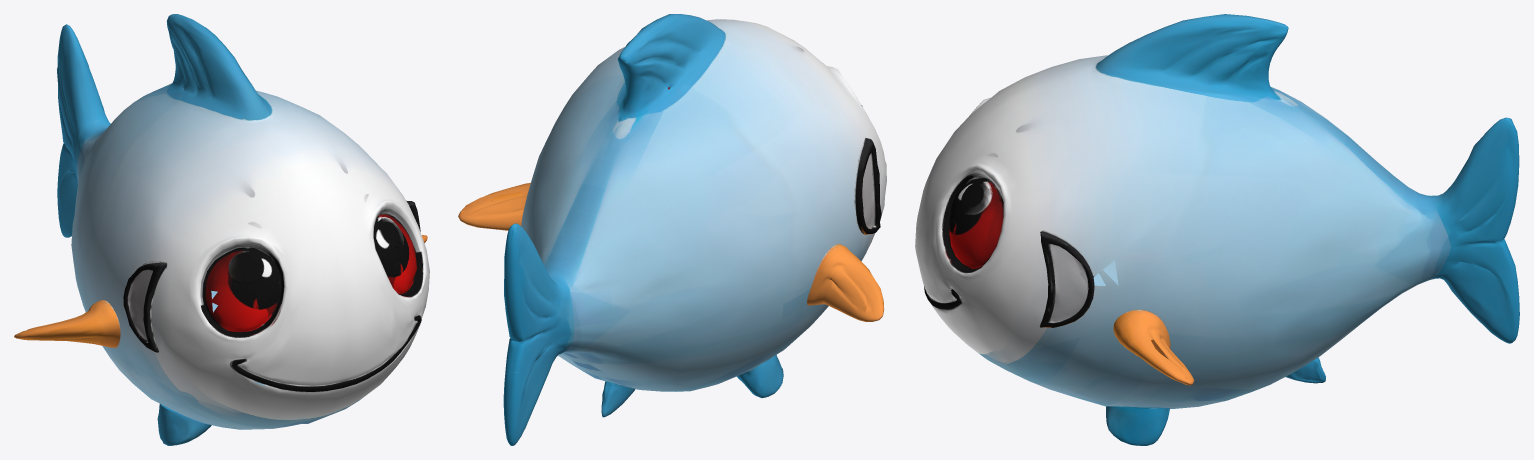
The model's file is piranha-tier1.glb.
3 views of the same model, side by side, from view 1: azimuth 30°, elevation 25°; view 2: azimuth 150°, elevation 25°; view 3: azimuth 270°, elevation 25° (orthographic). The views are drawn at different scales.
Size of the model in its own units: 0.7856 by 0.6787 by 0.9517.
Materials: 1 (1 with a texture image).
